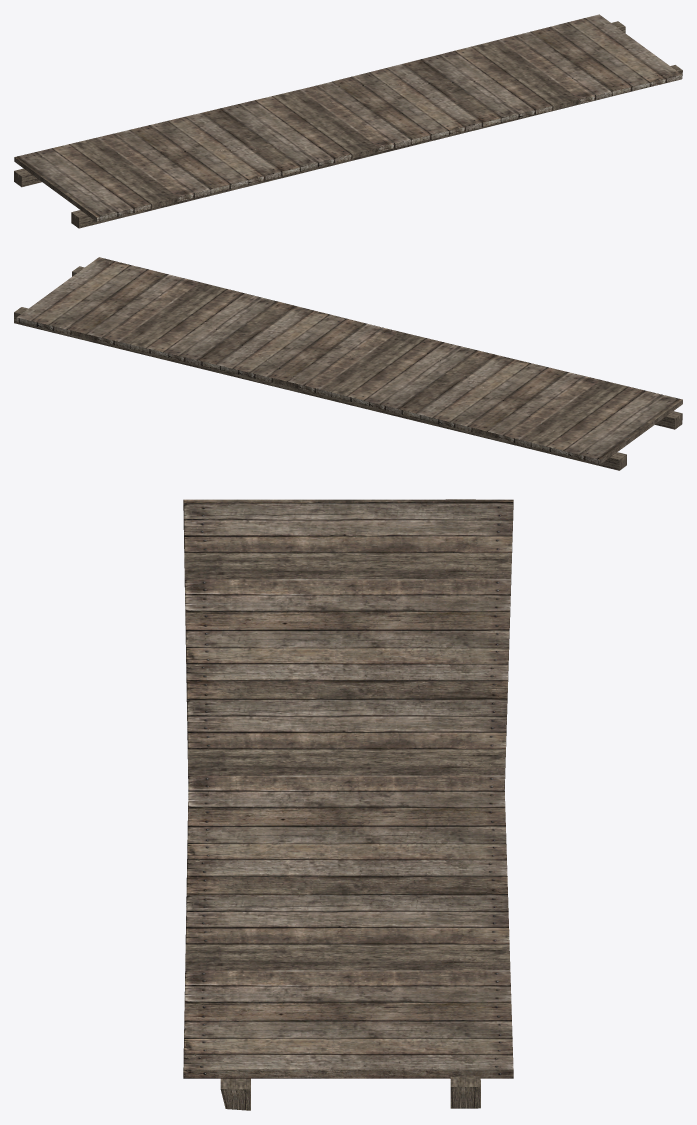
File: d_sg_shouyou_xiepo01_qt.FBX
3 renders of one model, top to bottom at view 1: azimuth 30°, elevation 25°; view 2: azimuth 150°, elevation 25°; view 3: azimuth 270°, elevation 25°, orthographic. The views are drawn at different scales.
Visible parts, largest first — view 1: d_sg_shouyou_chuan01_qt; view 2: d_sg_shouyou_chuan01_qt; view 3: d_sg_shouyou_chuan01_qt.
Part boxes in pixels (x1,y1,x2,y2): d_sg_shouyou_chuan01_qt: (14, 14, 682, 228); d_sg_shouyou_chuan01_qt: (14, 257, 682, 470); d_sg_shouyou_chuan01_qt: (183, 499, 513, 1110).
Size of the model in its own units: 1442 by 35.65 by 341.
